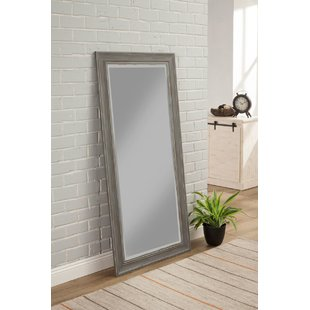Nonrec_Glass: (90, 46, 201, 281)
